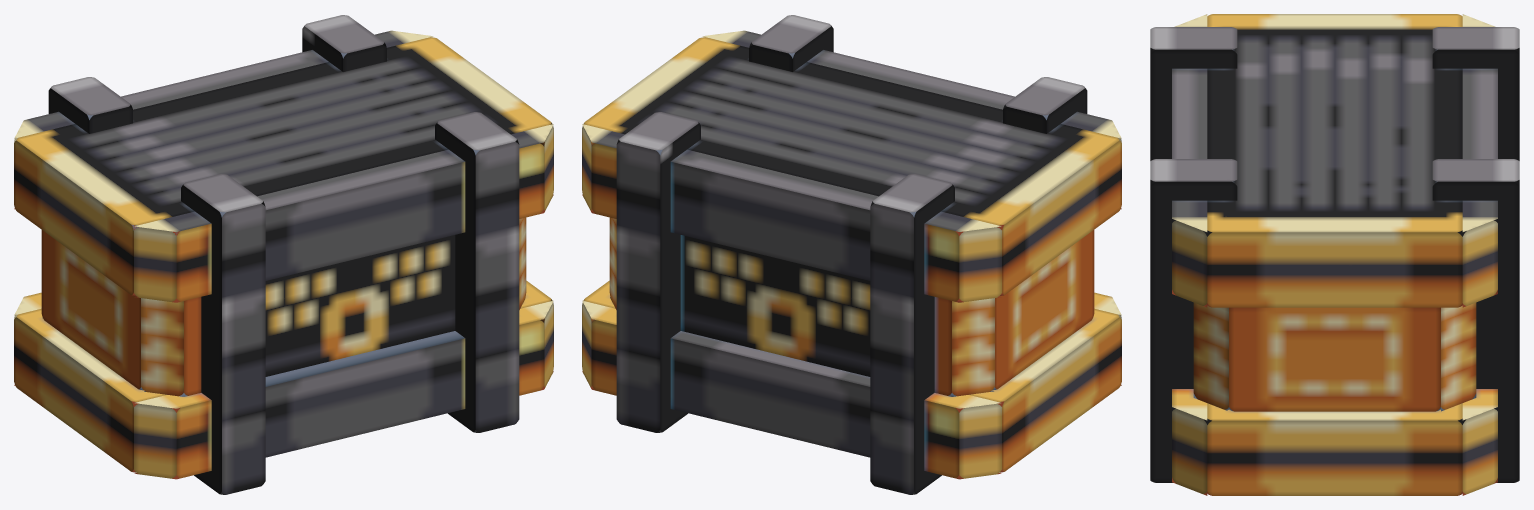
File: chest_create_gold.obj
The picture shows the model from 3 angles, left to right: view 1: azimuth 30°, elevation 25°; view 2: azimuth 150°, elevation 25°; view 3: azimuth 270°, elevation 25°; orthographic projection. The views are drawn at different scales.
Visible parts, largest first — view 1: pillier; view 2: pillier; view 3: pillier.
Boxes of the visible parts, x1,y1,x2,y2 form: pillier: (14, 15, 553, 494); pillier: (582, 15, 1121, 494); pillier: (1150, 14, 1519, 495).
Bounding box in the file's own units: 1.75 × 1.12 × 1.25.
